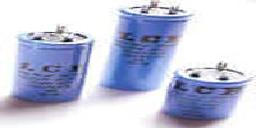Electrolytic Capacitor: (103, 1, 190, 101), (11, 21, 93, 118), (160, 59, 247, 126)
